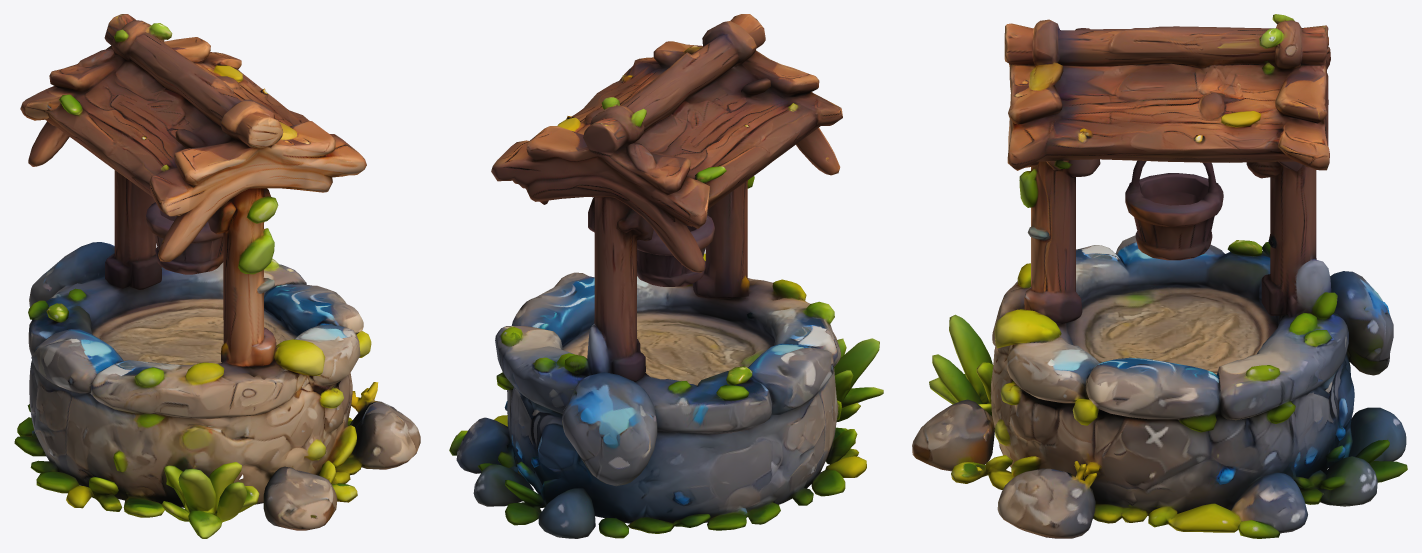
File: well.glb
3 views of the same model, side by side, from view 1: azimuth 30°, elevation 25°; view 2: azimuth 150°, elevation 25°; view 3: azimuth 270°, elevation 25° (orthographic). The views are drawn at different scales.
Parts seen in each view (by area): view 1: tripo_node_8c3707b6-1a16-4f96-b225-4624dca2e431; view 2: tripo_node_8c3707b6-1a16-4f96-b225-4624dca2e431; view 3: tripo_node_8c3707b6-1a16-4f96-b225-4624dca2e431.
Boxes of the visible parts, box(x1,y1,x2,y2) form: tripo_node_8c3707b6-1a16-4f96-b225-4624dca2e431: box(14, 14, 420, 538); tripo_node_8c3707b6-1a16-4f96-b225-4624dca2e431: box(449, 14, 883, 538); tripo_node_8c3707b6-1a16-4f96-b225-4624dca2e431: box(912, 14, 1407, 538).
Bounding box in the file's own units: 0.8594 × 0.9546 × 0.9981.
1 material, 1 textured.
